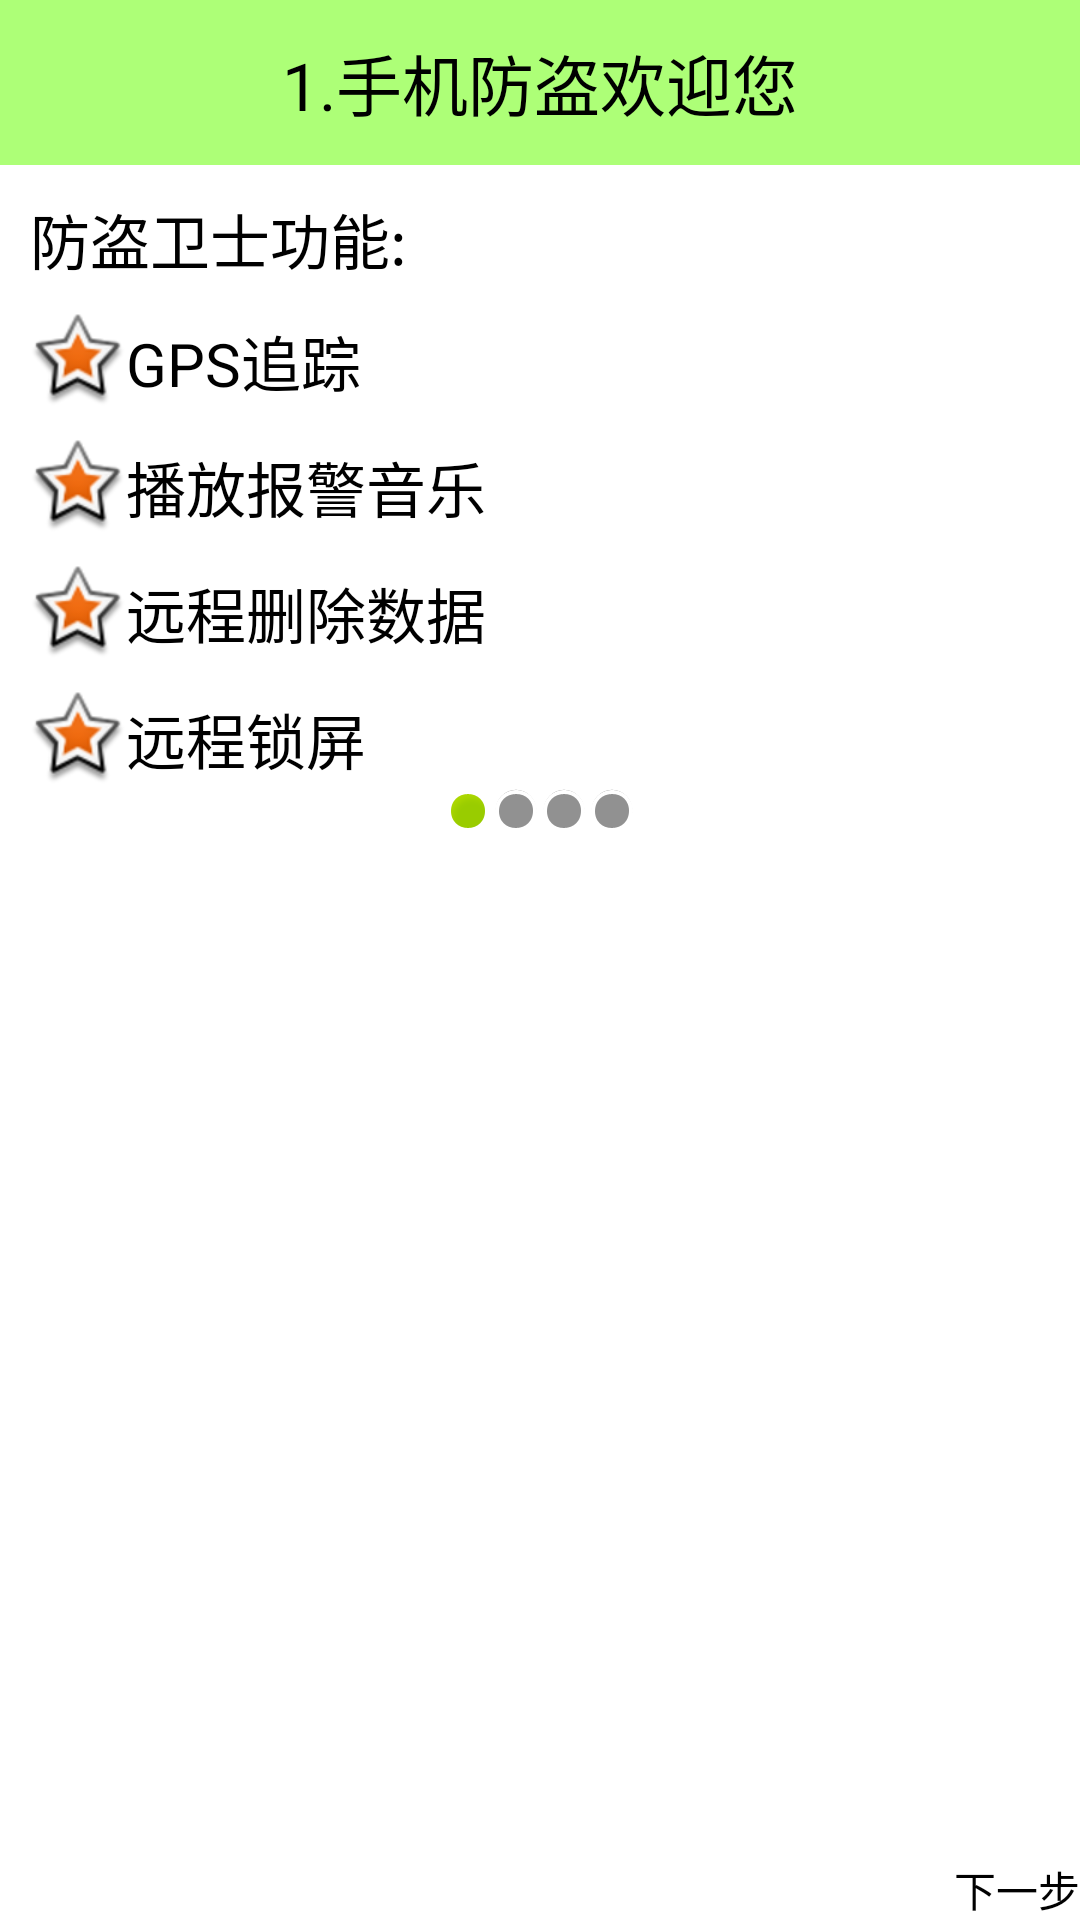

Locate icon controls on the screen. Image size 1080 x 1920, boxes as (x1, y1, x2, y2).
presence invisible: (499, 790, 533, 828), (547, 790, 581, 828), (595, 790, 629, 828)
presence online: (451, 794, 485, 828)
